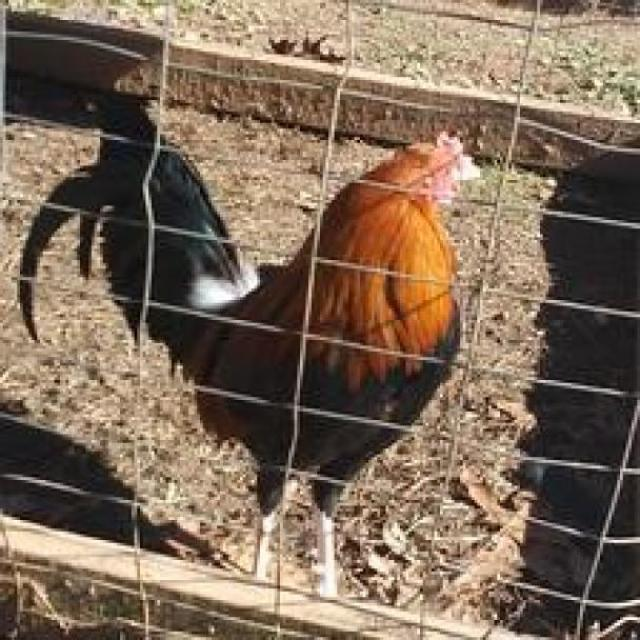Chicken: (41, 57, 493, 606)
